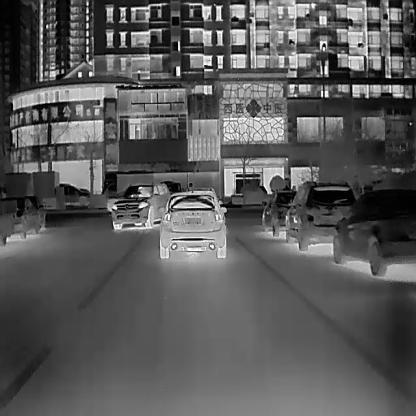car: (333, 187, 416, 275), (284, 179, 357, 250), (159, 185, 226, 258), (111, 182, 169, 228), (261, 189, 297, 236), (0, 195, 38, 237), (57, 182, 90, 206)
